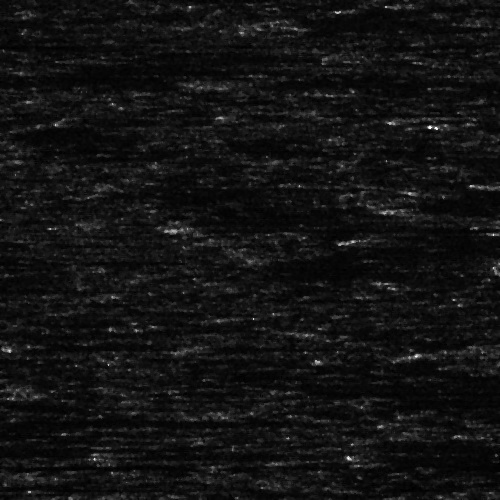object: (143, 217, 248, 236), (0, 414, 46, 429), (104, 449, 167, 458), (202, 340, 243, 349)
shadow: (196, 217, 456, 236), (0, 414, 280, 429), (135, 449, 377, 458), (0, 445, 220, 450), (223, 340, 307, 349)
